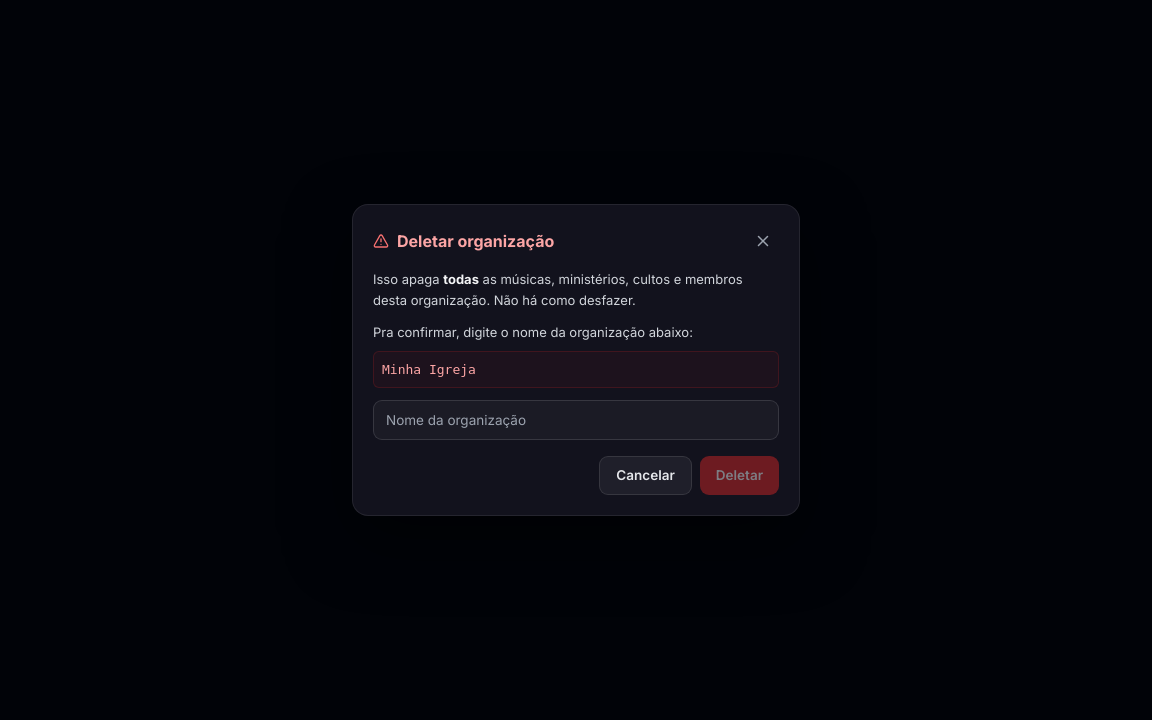
Test: DeleteOrgModal › Deletar fica desabilitado até o usuário digitar o nome exato da org
Expected: the button "Deletar" is disabled, [700, 456, 779, 495]
Step 1. Type "Minha Igrej" into the field with placeholder "Nome da organização" → {"x": 576, "y": 420}, box [373, 400, 779, 440]
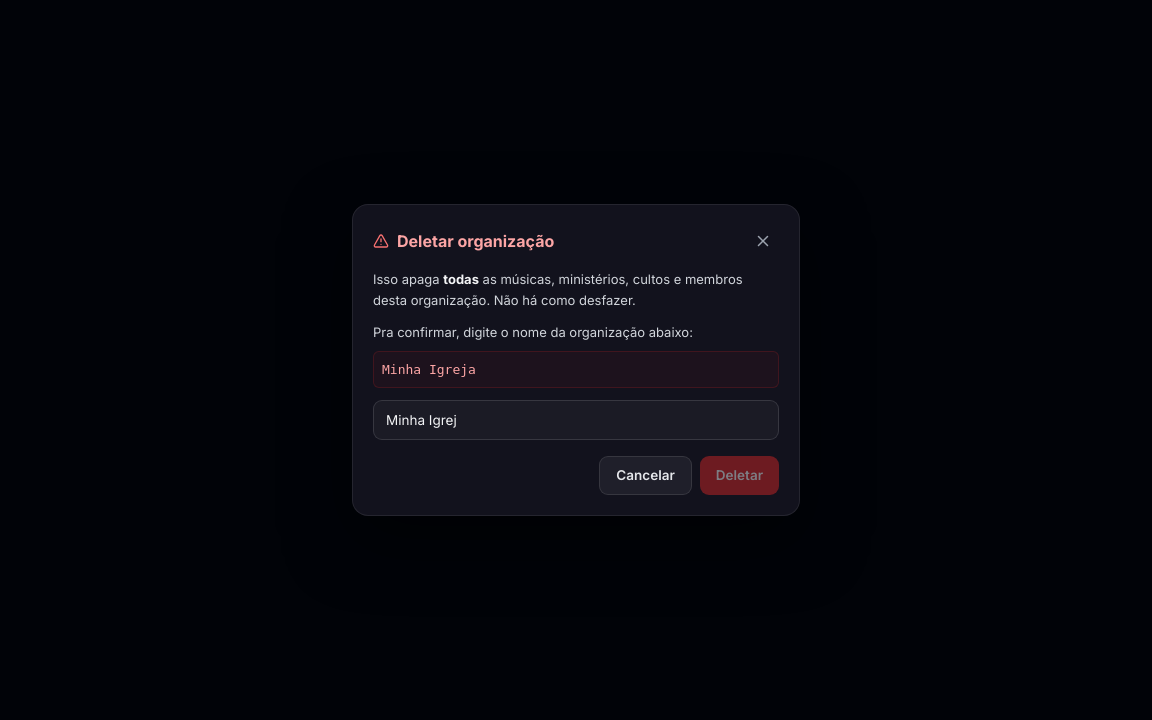
Expected: the button "Deletar" is disabled, [700, 456, 779, 495]
Step 2. Type "a" into the field with placeholder "Nome da organização" → {"x": 576, "y": 420}, box [373, 400, 779, 440]
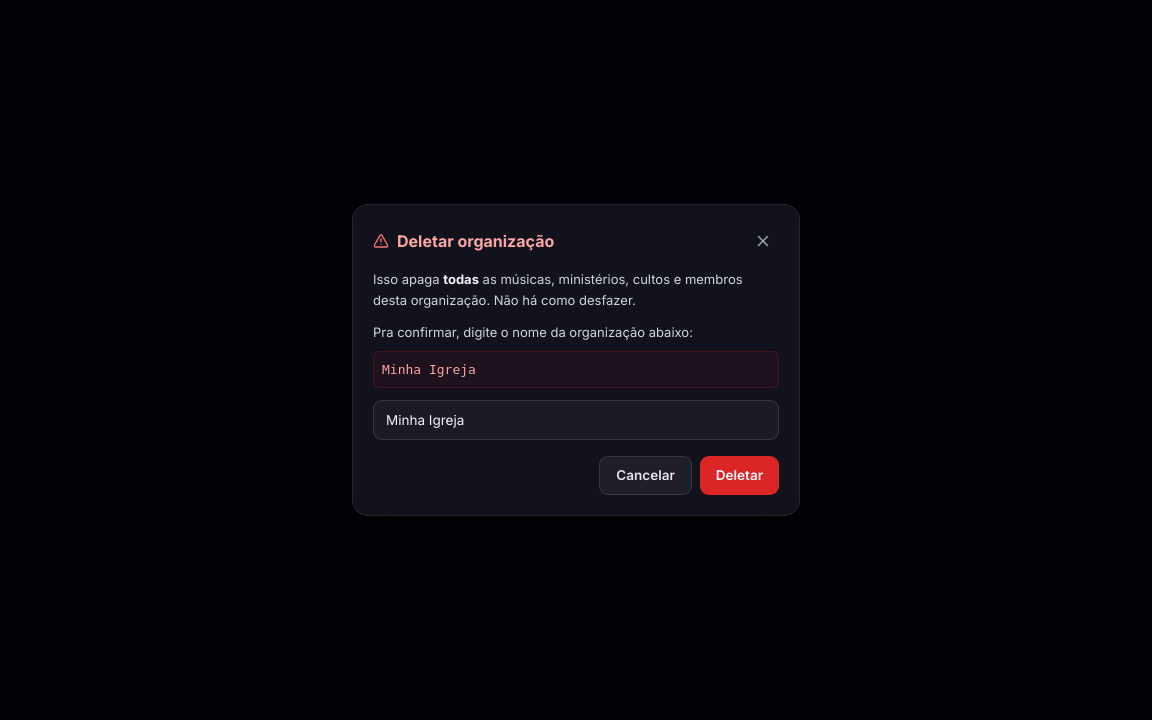
Result: the button "Deletar" is enabled at [700, 456, 779, 495]
